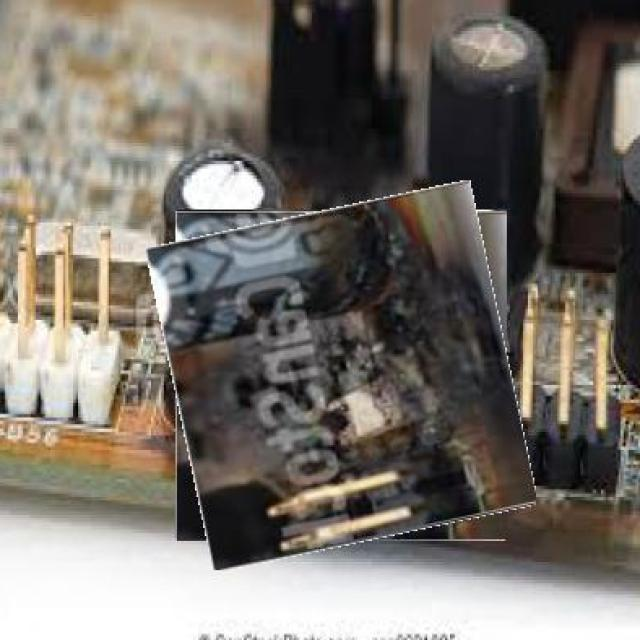Burn: (161, 195, 523, 557)
